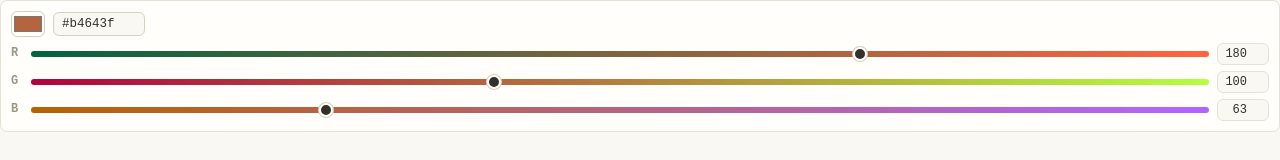
RgbColorPicker 十六进制输入 › 失焦时把非法输入拉回当前颜色
Replace the text in the field named "单日颜色：十六进制值" with "zzz" at (99, 24), box left=53, top=12, right=145, bottom=36
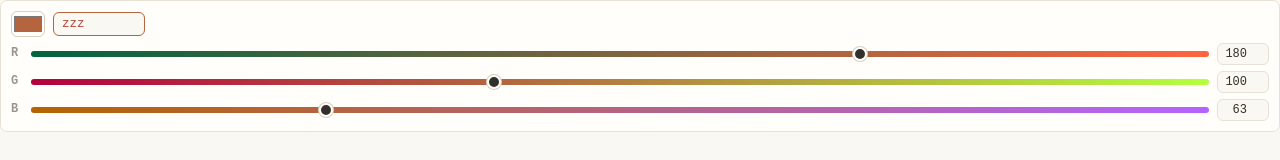
Press Tab
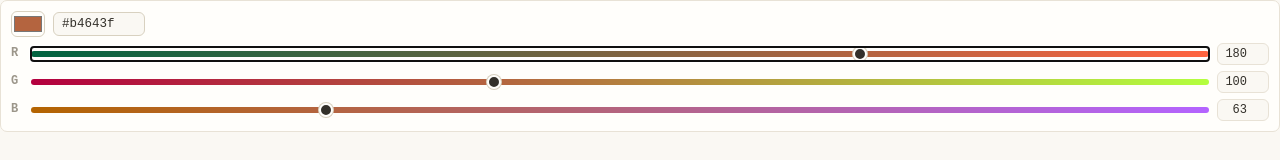
expect the field named "单日颜色：十六进制值" holds "#b4643f": met, box left=53, top=12, right=145, bottom=36
